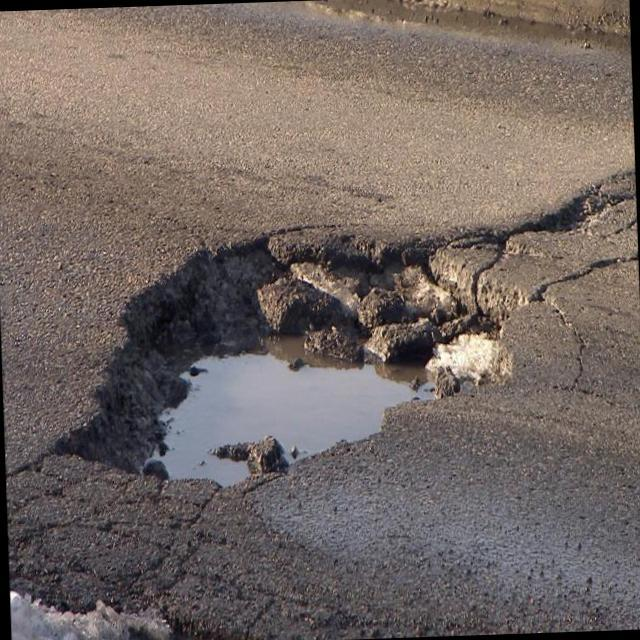Pothole: (45, 236, 526, 489), (505, 185, 630, 234)
